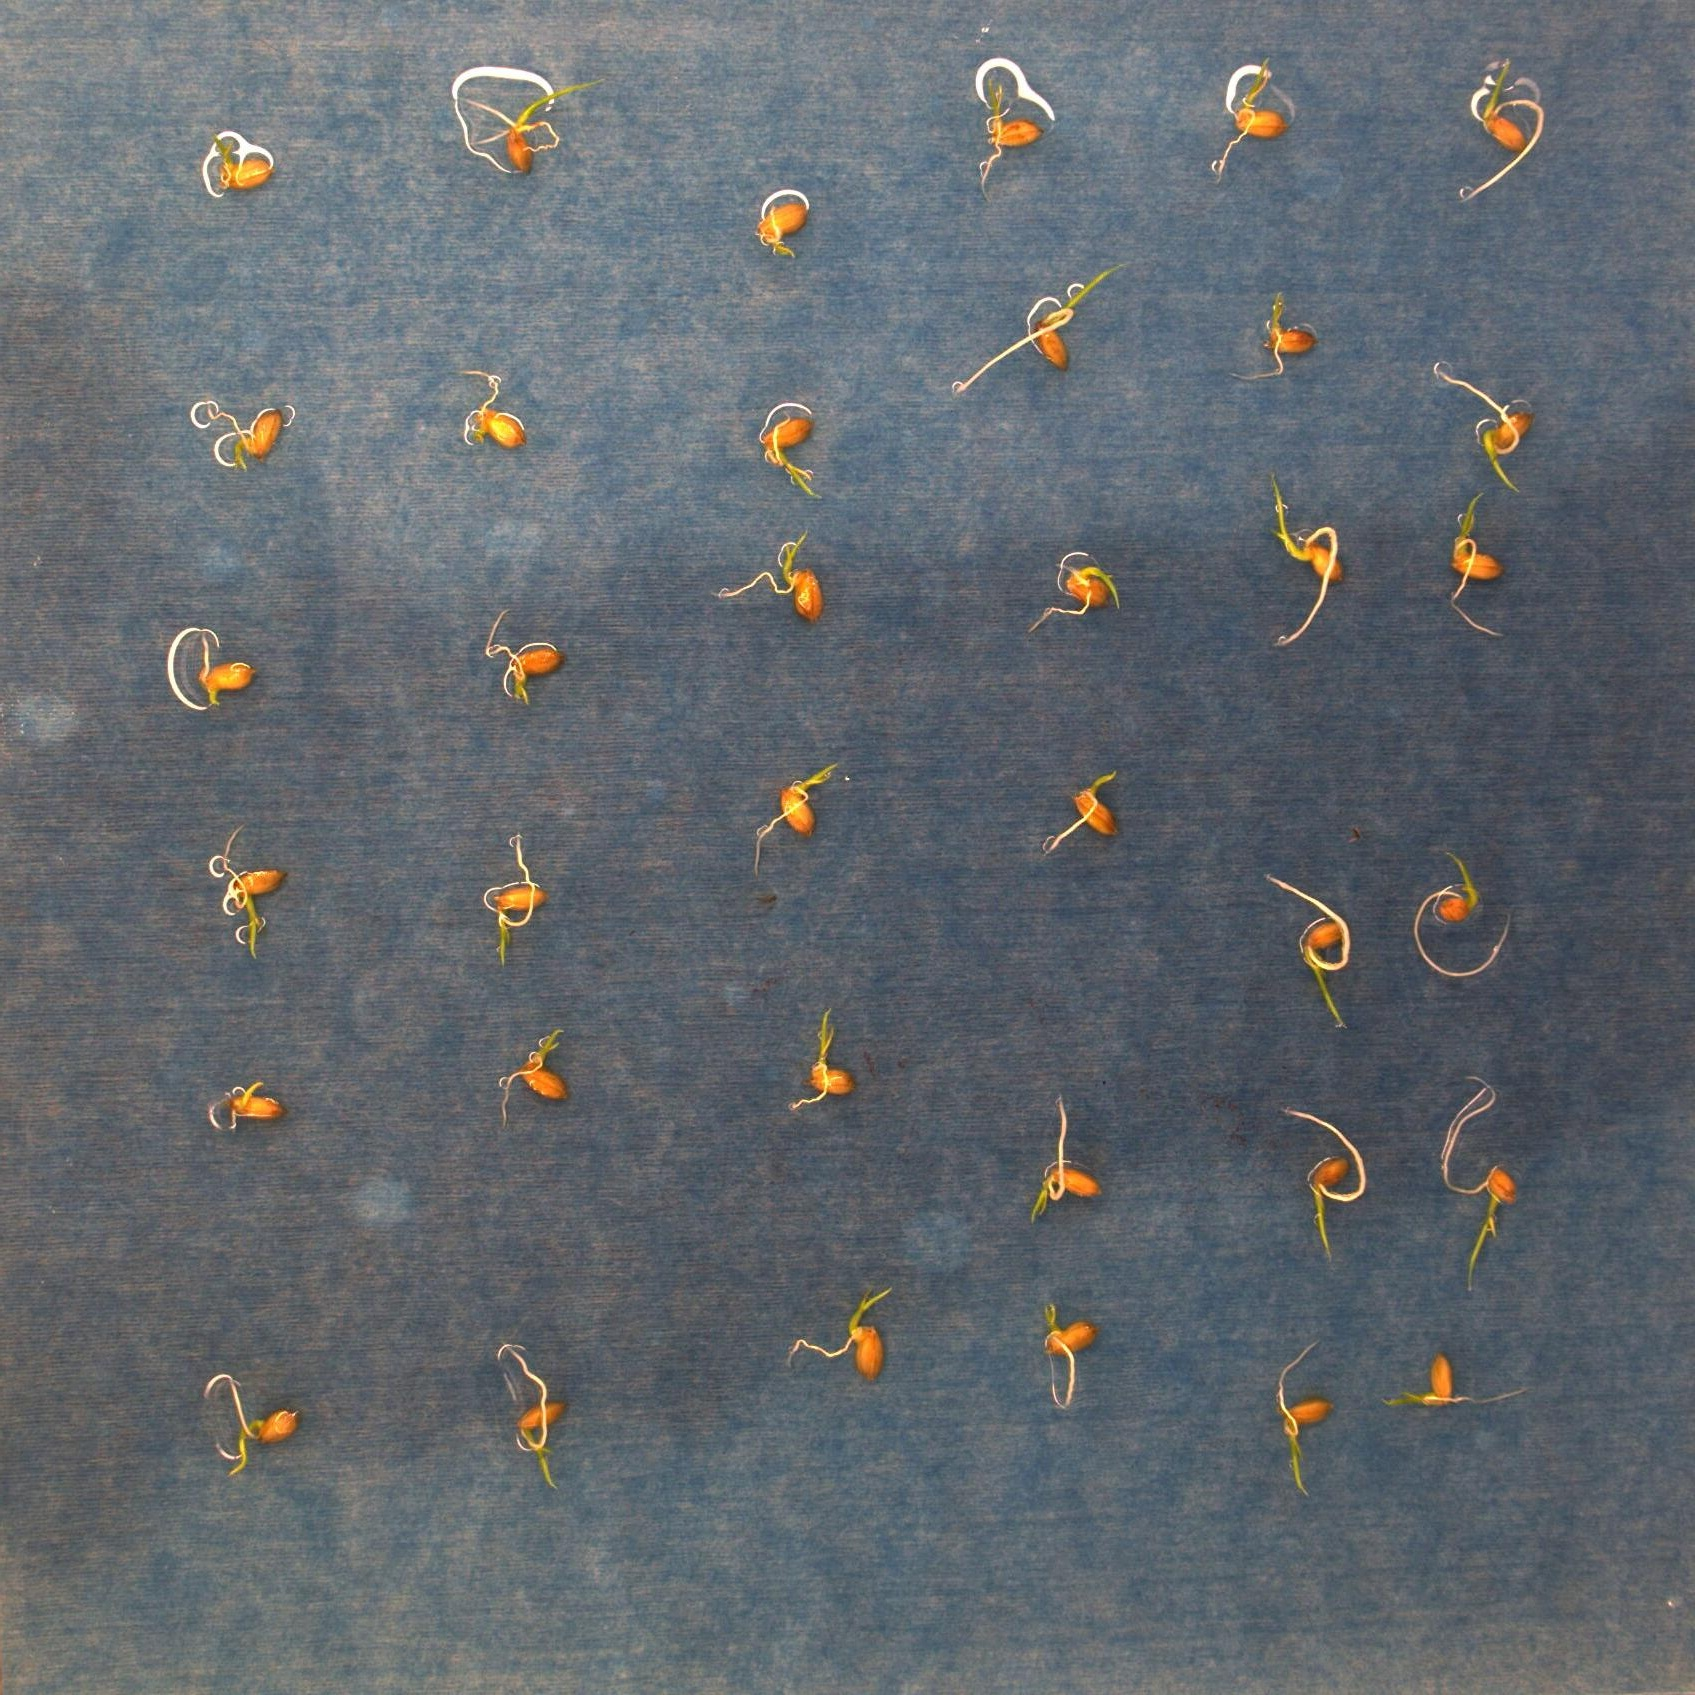not sprout: (197, 629, 255, 702)
sprout: (955, 259, 1124, 402), (1434, 1076, 1516, 1291), (1431, 359, 1534, 494), (1265, 472, 1343, 649), (1263, 868, 1347, 1028), (469, 78, 604, 174), (1412, 852, 1516, 976), (1284, 1104, 1364, 1260), (492, 1336, 565, 1493), (708, 523, 823, 621), (1462, 61, 1543, 197), (750, 761, 840, 871), (785, 1288, 897, 1377), (1028, 1093, 1105, 1220), (216, 823, 284, 961), (1273, 1344, 1330, 1495), (1448, 497, 1507, 643), (1214, 61, 1284, 182), (978, 76, 1043, 203), (487, 827, 546, 965), (1389, 1352, 1534, 1408), (487, 605, 563, 706), (227, 1375, 304, 1473), (1232, 290, 1318, 376), (1028, 553, 1121, 629), (501, 1028, 576, 1119), (789, 1007, 854, 1108), (1037, 1293, 1093, 1405), (759, 411, 826, 501), (1045, 771, 1116, 855), (461, 366, 526, 456), (199, 397, 278, 470), (750, 197, 809, 265), (208, 135, 275, 192), (227, 1073, 282, 1133)
